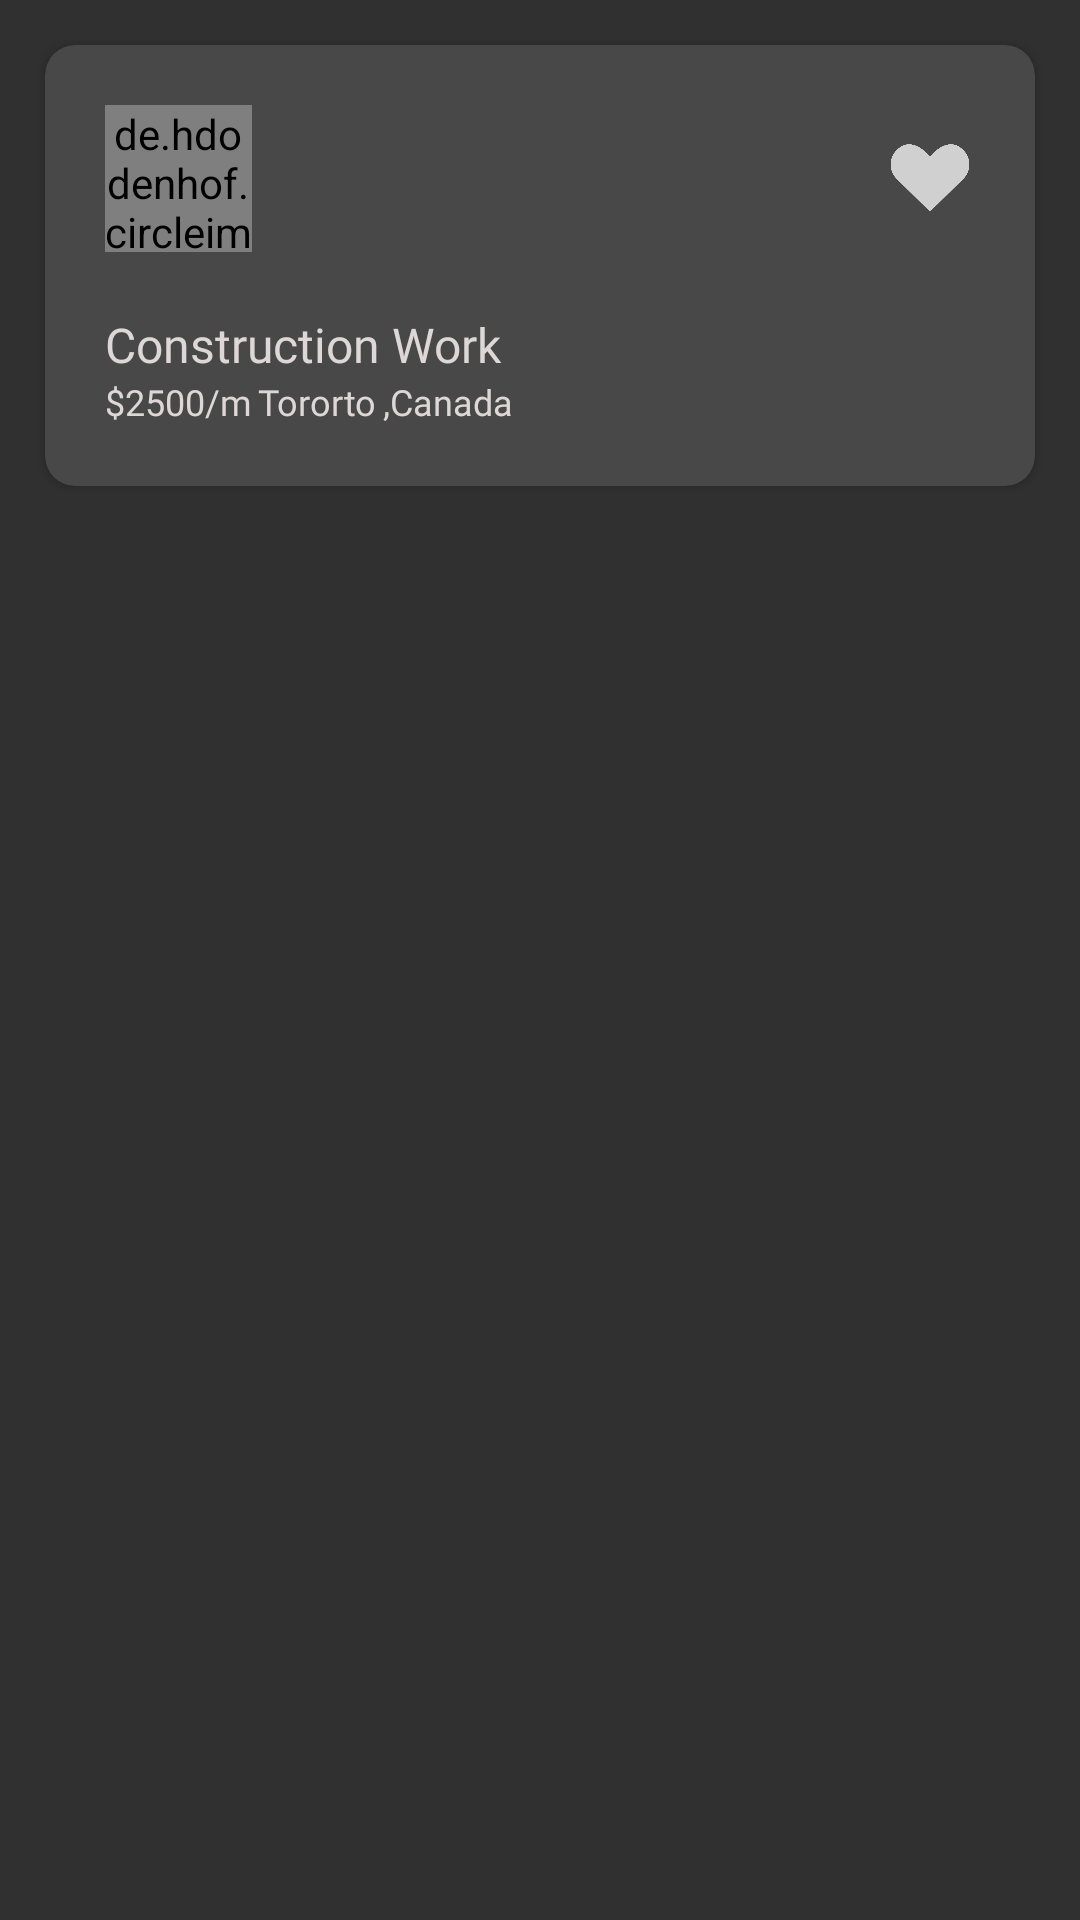

Named icons in this screenshot (1080 x 1920) and their bounding boxes, (x1, y1, x2, y2):
love: (891, 144, 969, 211)
